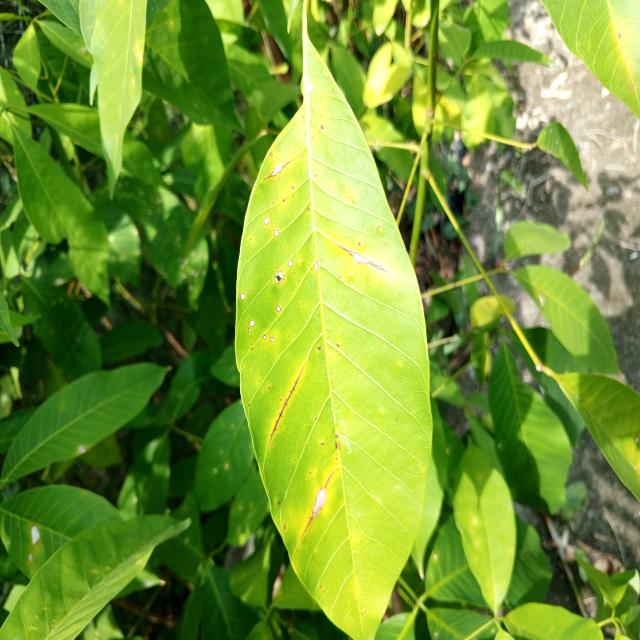Colletotrichum: (249, 320, 255, 327), (240, 293, 245, 301), (264, 217, 269, 225), (276, 305, 281, 312), (274, 230, 279, 237), (288, 260, 292, 267), (315, 262, 318, 270), (262, 335, 266, 340), (271, 337, 274, 342), (248, 328, 251, 332), (270, 153, 273, 157), (301, 155, 303, 159), (308, 208, 310, 211), (292, 187, 294, 190), (283, 275, 285, 277), (329, 357, 331, 359), (315, 175, 317, 177), (273, 202, 274, 205), (301, 116, 302, 119), (328, 189, 329, 191), (283, 200, 284, 202)
Corynespora: (269, 364, 305, 445), (300, 472, 334, 540), (332, 240, 388, 273), (264, 160, 291, 181)
